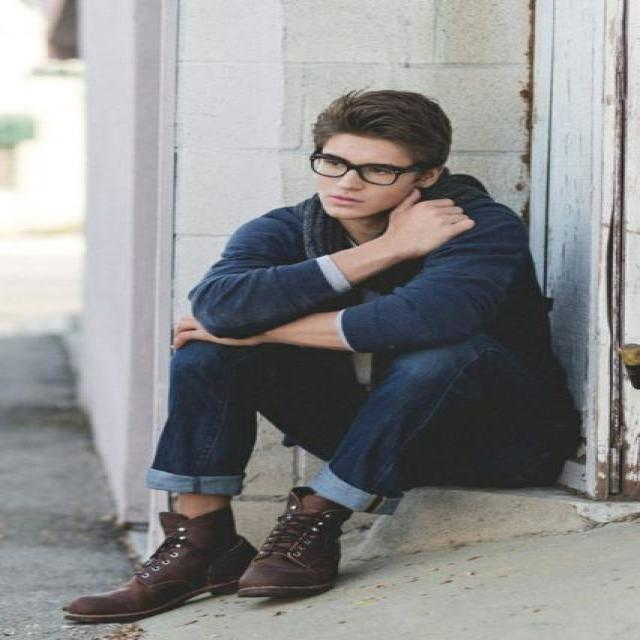glasses: (310, 148, 424, 186)
